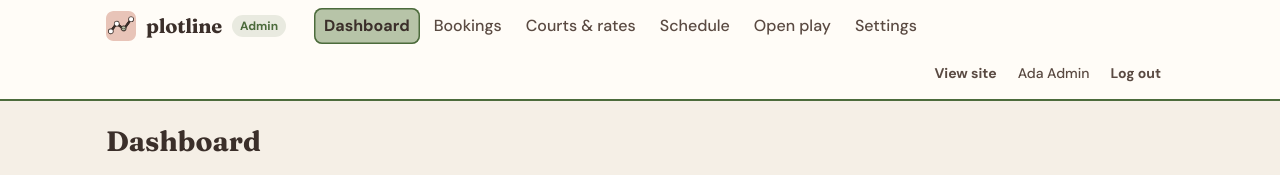
Test: AdminLayout focus › moves focus to <main> after an admin page change
Click the link "Bookings" at (468, 26), box [434,15,502,36]
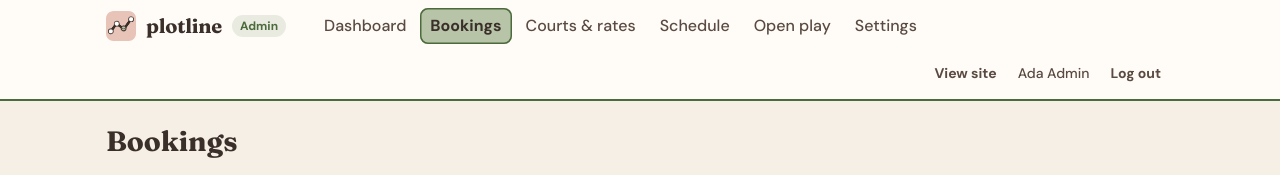
Now the heading "Bookings" is shown, box [106,124,238,158]
